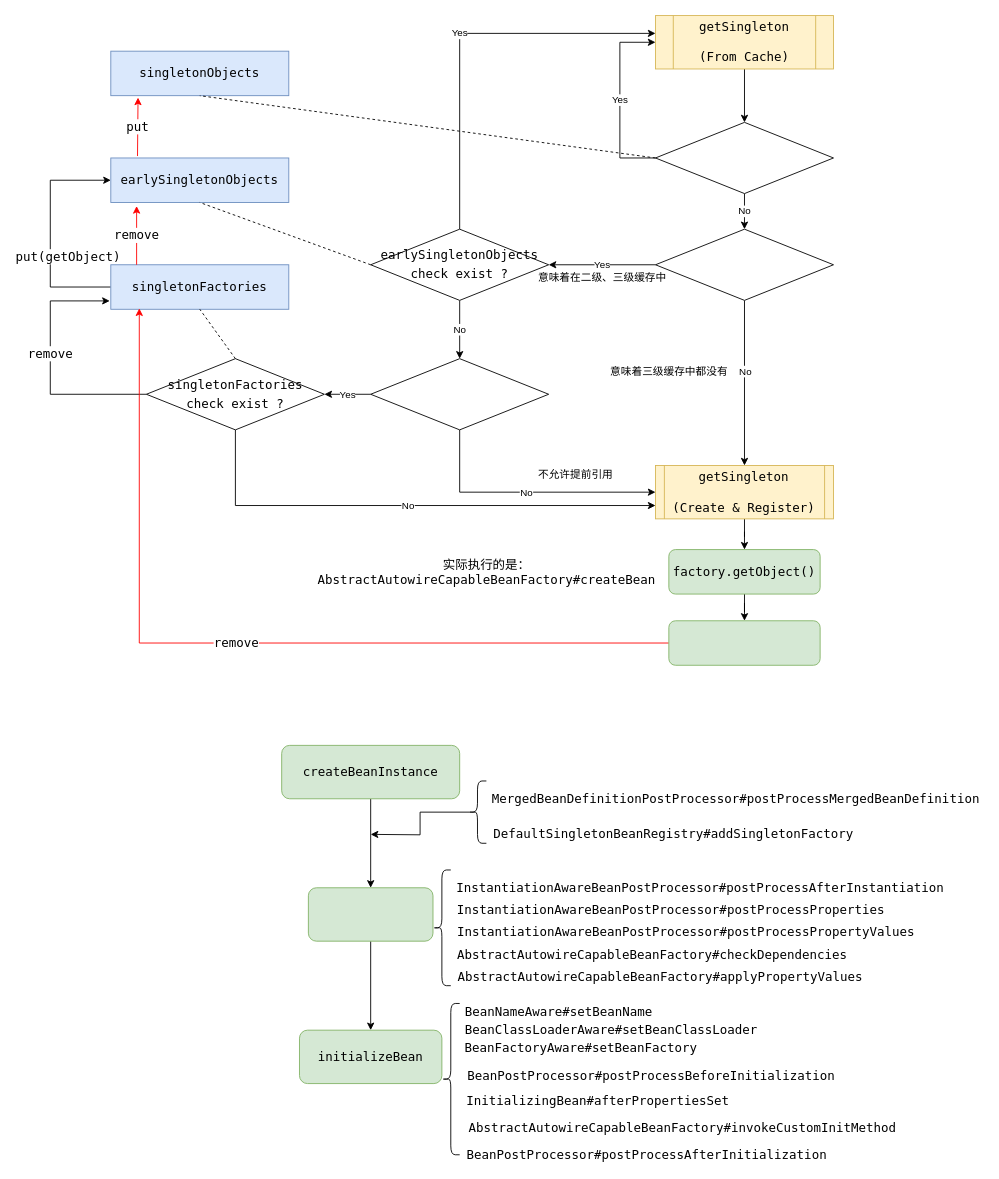
Image size: 999x1179. Some labels were removed from this diagram. The box of each missing label's shape, as (x1, y1, x2, y2) in pixels:
addSingleton: (668, 620, 820, 665)
allowEarlyReference: (370, 358, 549, 430)
check is in creation?: (655, 228, 833, 300)
populateBean: (307, 887, 433, 941)
singletonObjects check exist ?: (655, 121, 833, 194)
